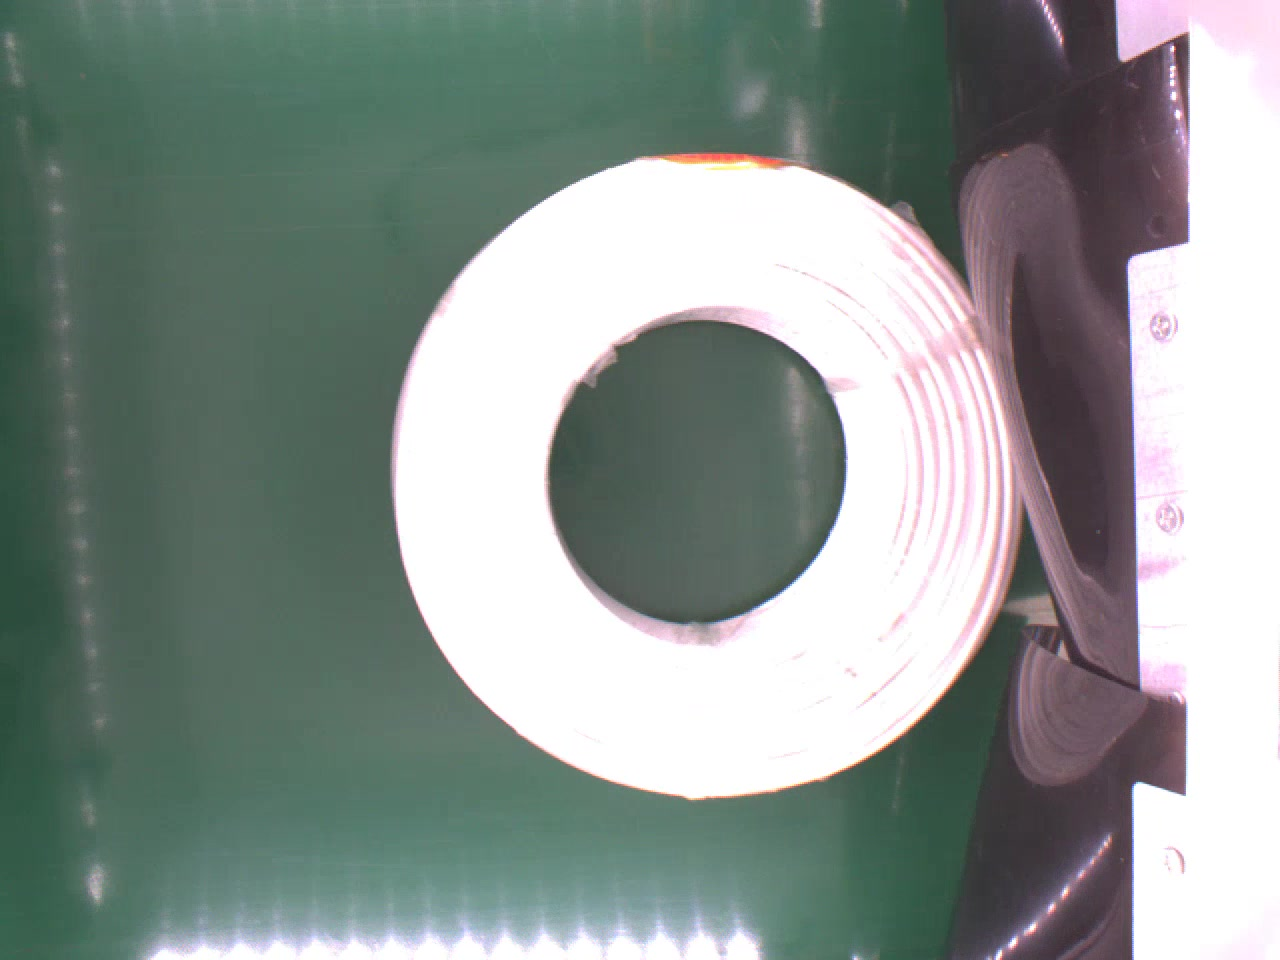white: (387, 147, 1024, 797)
